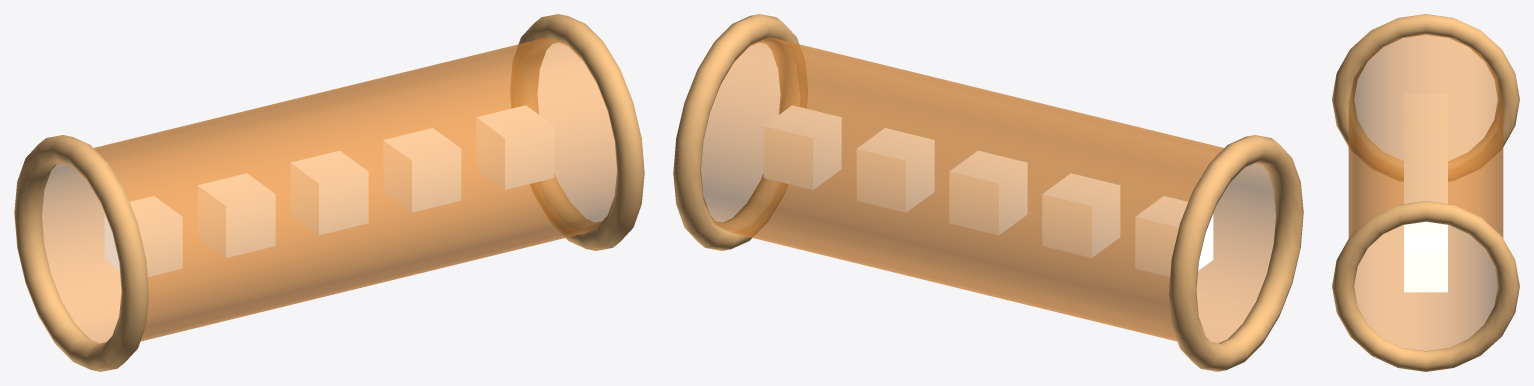
File: queue.glb
3 renders of one model, left to right at view 1: azimuth 30°, elevation 25°; view 2: azimuth 150°, elevation 25°; view 3: azimuth 270°, elevation 25°, orthographic. The views are drawn at different scales.
Visible parts, largest first — view 1: tube, ring (×2), msg (×5); view 2: tube, ring (×2), msg (×5); view 3: tube, ring (×2), msg (×5).
Part boxes in pixels (bbox=[...]): tube: bbox=[42, 37, 617, 343]; ring (×2): bbox=[14, 14, 644, 371]; msg (×5): bbox=[104, 105, 554, 276]; tube: bbox=[700, 37, 1275, 343]; ring (×2): bbox=[673, 14, 1303, 371]; msg (×5): bbox=[763, 105, 1213, 276]; tube: bbox=[1348, 33, 1503, 350]; ring (×2): bbox=[1332, 14, 1519, 371]; msg (×5): bbox=[1404, 93, 1447, 292].
Bounding box in the file's own units: 1.68 × 0.68 × 0.68.
